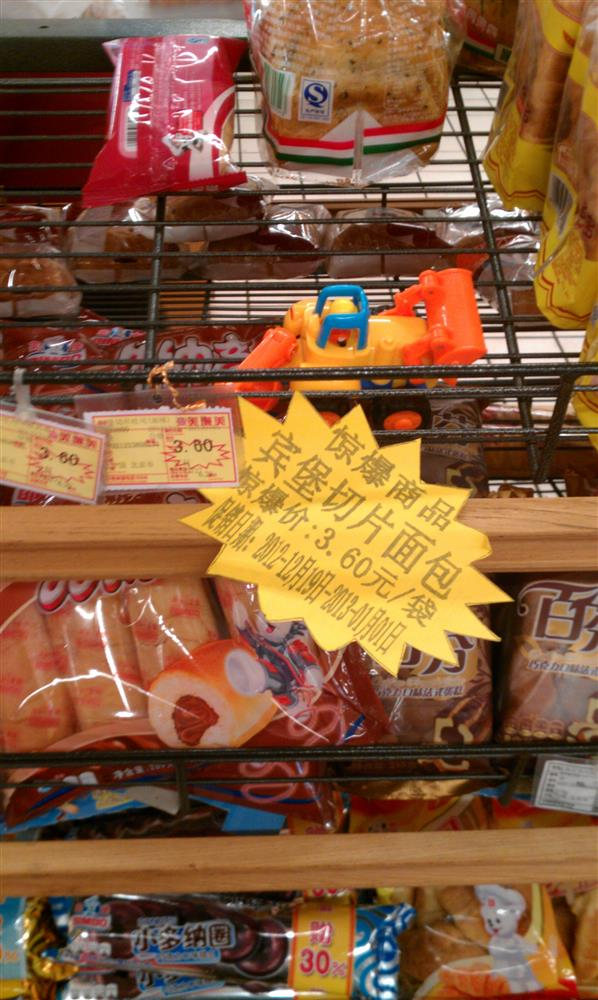navvy: (228, 252, 491, 419)
